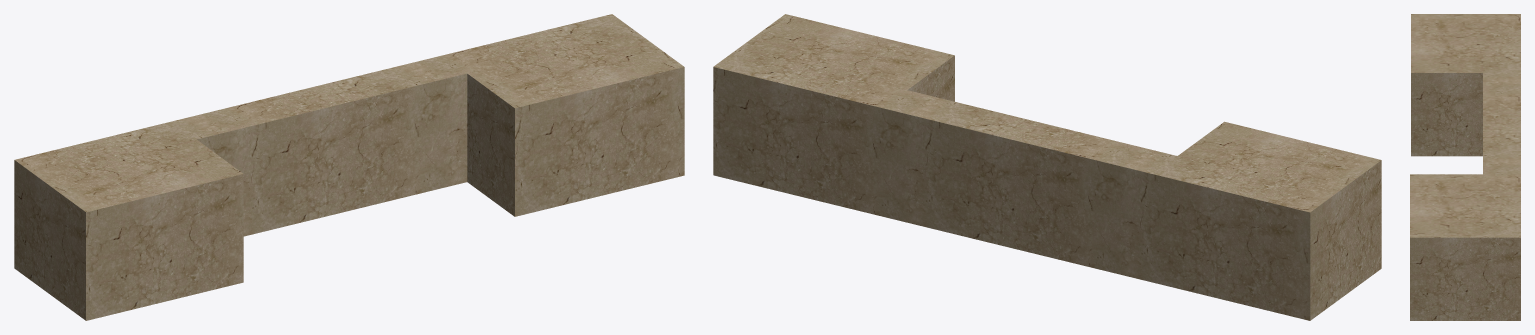
The model's file is pasted__stone_column_308.fbx.
3 renders of one model, left to right at view 1: azimuth 30°, elevation 25°; view 2: azimuth 150°, elevation 25°; view 3: azimuth 270°, elevation 25°, orthographic. The views are drawn at different scales.
Parts seen in each view (by area): view 1: pasted__stone_column_308; view 2: pasted__stone_column_308; view 3: pasted__stone_column_308.
Boxes of the visible parts, box(x1,y1,x2,y2) form: pasted__stone_column_308: box(14, 14, 684, 320); pasted__stone_column_308: box(713, 14, 1381, 320); pasted__stone_column_308: box(1410, 14, 1520, 320).
Bounding box in the file's own units: 1109 × 232 × 192.
